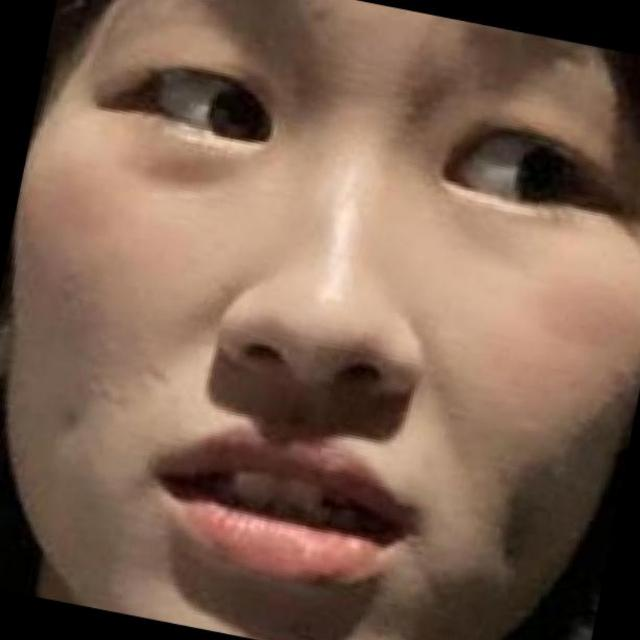Disgust: (85, 4, 598, 640)
